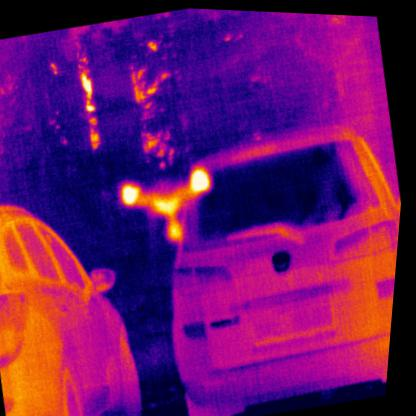drone: (112, 155, 228, 253)
vehicle: (133, 102, 409, 415)
